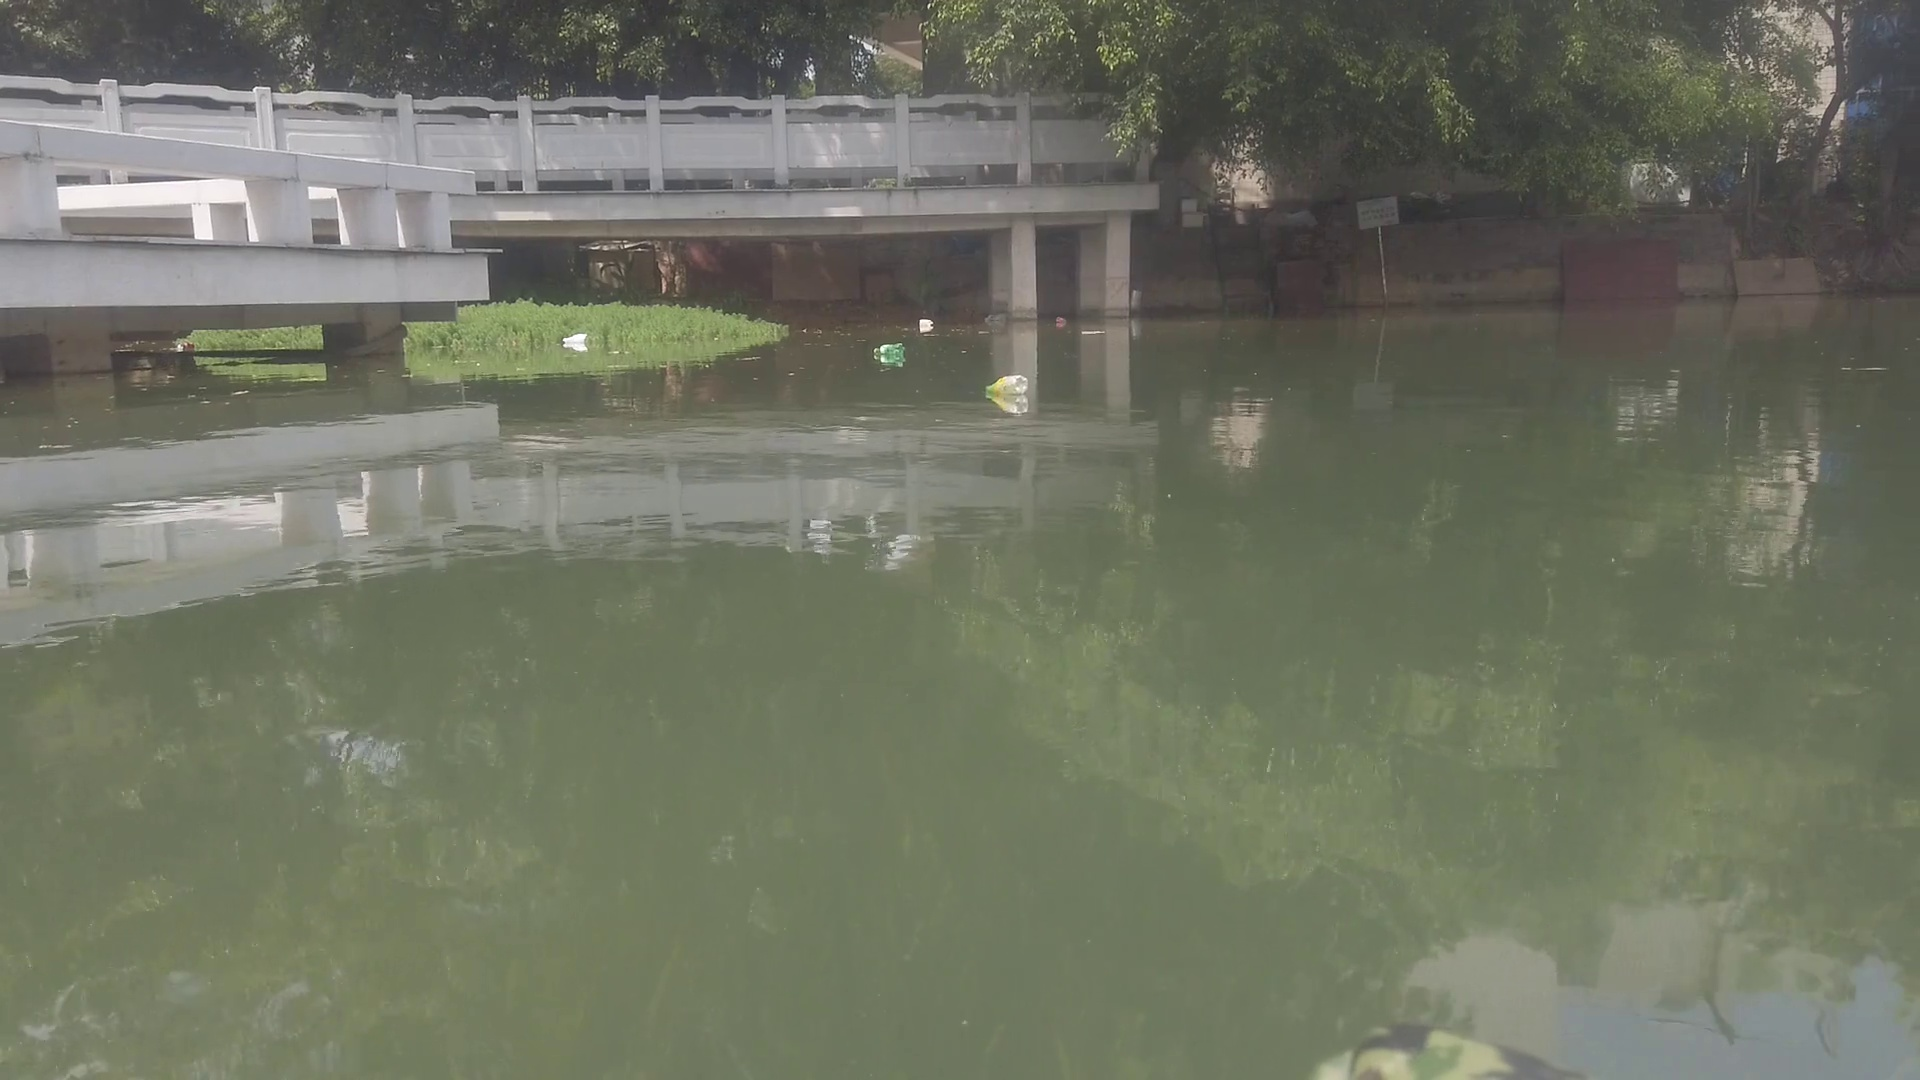bottle: (985, 373, 1033, 400), (872, 339, 905, 357), (1050, 314, 1073, 330)
carton: (915, 315, 938, 330)
paper: (1083, 324, 1109, 338)
plastic: (560, 328, 587, 347)
